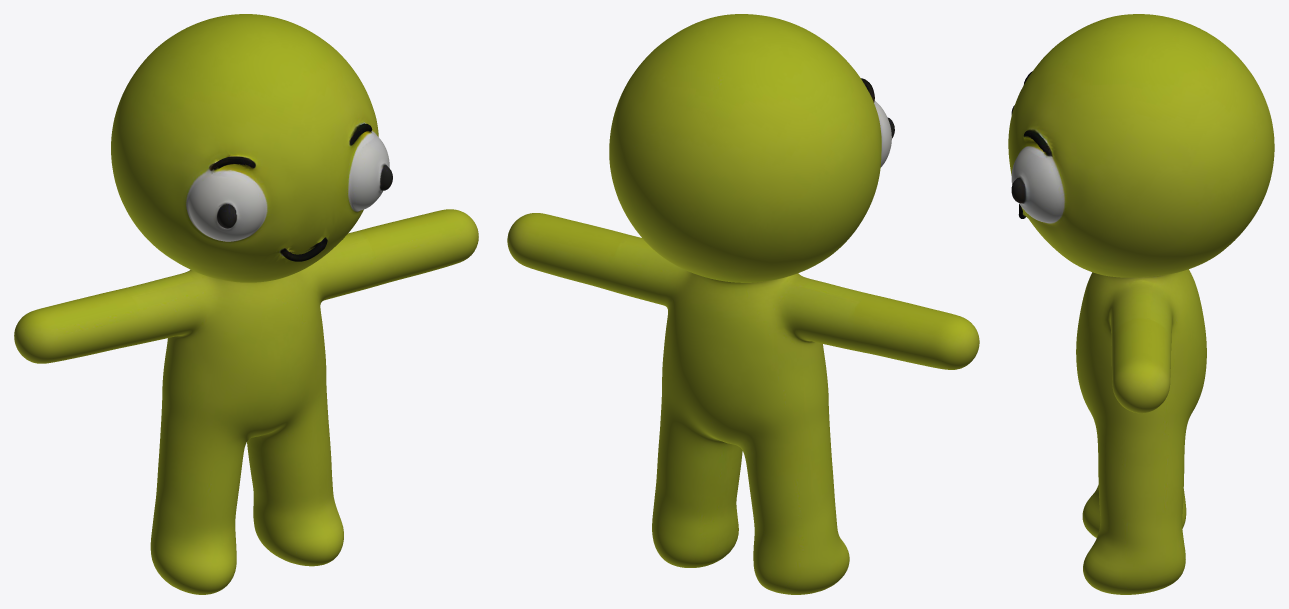
The model's file is chartreuse.fbx.
The picture shows the model from 3 angles, left to right: view 1: azimuth 30°, elevation 25°; view 2: azimuth 150°, elevation 25°; view 3: azimuth 270°, elevation 25°; orthographic projection. The views are drawn at different scales.
Visible parts, largest first — view 1: tripo_node_330fa1c1; view 2: tripo_node_330fa1c1; view 3: tripo_node_330fa1c1.
Boxes of the visible parts, left/top/right/bottom form: tripo_node_330fa1c1: left=14, top=14, right=478, bottom=594; tripo_node_330fa1c1: left=507, top=14, right=979, bottom=594; tripo_node_330fa1c1: left=1008, top=14, right=1274, bottom=594.
Size of the model in its own units: 0.8813 by 0.9999 by 0.447.
1 material, 1 textured.
